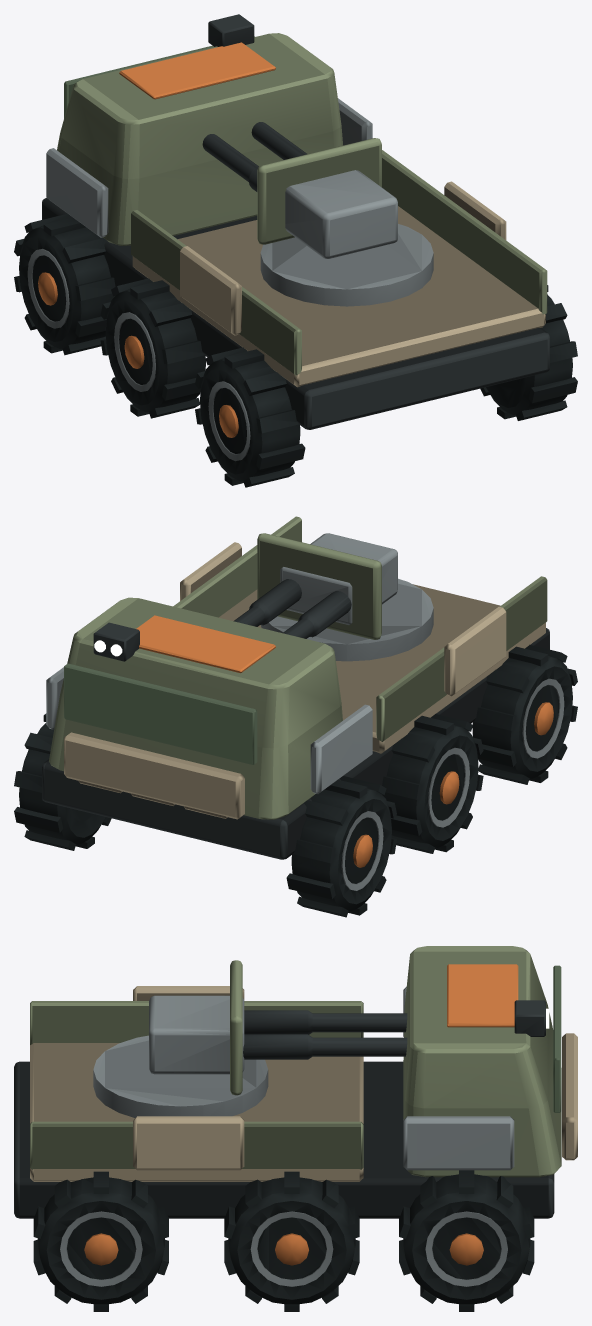
Rendered from RipsawTruck.glb.
3 renders of one model, top to bottom at view 1: azimuth 30°, elevation 25°; view 2: azimuth 150°, elevation 25°; view 3: azimuth 270°, elevation 25°, orthographic.
Parts seen in each view (by area): view 1: export_frontier_RipsawTruck_Wheel_-1_-1.15_Tire, export_frontier_RipsawTruck_Ring, export_frontier_RipsawTruck_Autocannon, export_frontier_RipsawTruck_SalvagePlate1, export_frontier_RipsawTruck_SalvagePlate2; view 2: export_frontier_RipsawTruck_Wheel_-1_-1.15_Tire, export_frontier_RipsawTruck_SalvagePlate2, export_frontier_RipsawTruck_Ring, export_frontier_RipsawTruck_Autocannon, export_frontier_RipsawTruck_SalvagePlate1; view 3: export_frontier_RipsawTruck_Wheel_-1_-1.15_Tire, export_frontier_RipsawTruck_Autocannon, export_frontier_RipsawTruck_Ring, export_frontier_RipsawTruck_SalvagePlate2, export_frontier_RipsawTruck_SalvagePlate1.
Boxes of the visible parts, x1,y1,x2,y2 form: export_frontier_RipsawTruck_Wheel_-1_-1.15_Tire: (14, 14, 577, 487); export_frontier_RipsawTruck_Ring: (257, 138, 433, 306); export_frontier_RipsawTruck_Autocannon: (202, 122, 397, 258); export_frontier_RipsawTruck_SalvagePlate1: (180, 181, 506, 335); export_frontier_RipsawTruck_SalvagePlate2: (46, 98, 372, 237); export_frontier_RipsawTruck_Wheel_-1_-1.15_Tire: (14, 516, 577, 917); export_frontier_RipsawTruck_SalvagePlate2: (46, 667, 372, 819); export_frontier_RipsawTruck_Ring: (257, 533, 433, 661); export_frontier_RipsawTruck_Autocannon: (233, 533, 397, 638); export_frontier_RipsawTruck_SalvagePlate1: (180, 542, 506, 696); export_frontier_RipsawTruck_Wheel_-1_-1.15_Tire: (14, 946, 561, 1311); export_frontier_RipsawTruck_Autocannon: (149, 995, 407, 1074); export_frontier_RipsawTruck_Ring: (93, 960, 268, 1117); export_frontier_RipsawTruck_SalvagePlate2: (403, 987, 577, 1170); export_frontier_RipsawTruck_SalvagePlate1: (133, 986, 244, 1170).
Size of the model in its own units: 2.38 by 1.77 by 3.55.
